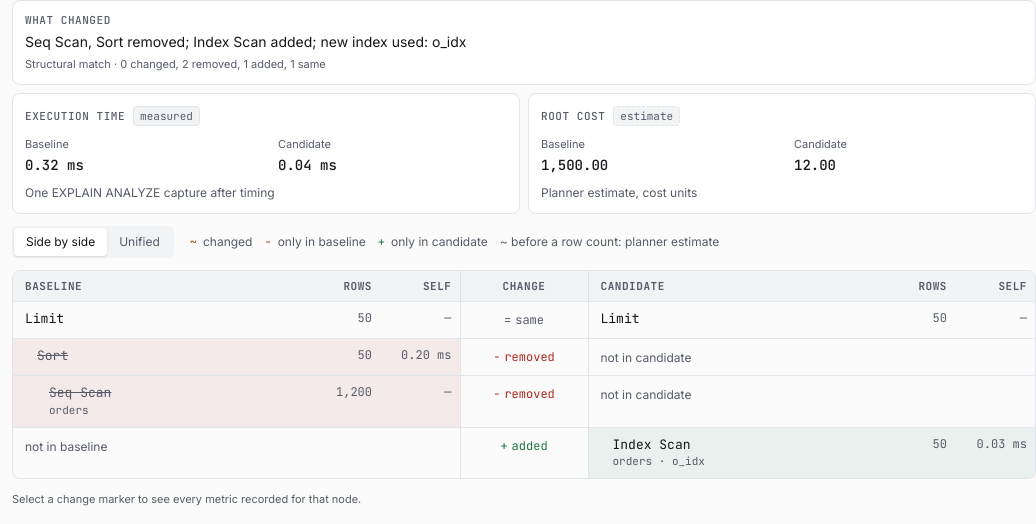
it: unified reads baseline → candidate in one list
Click the button "Unified": (139,242) 107,228 -> 172,256
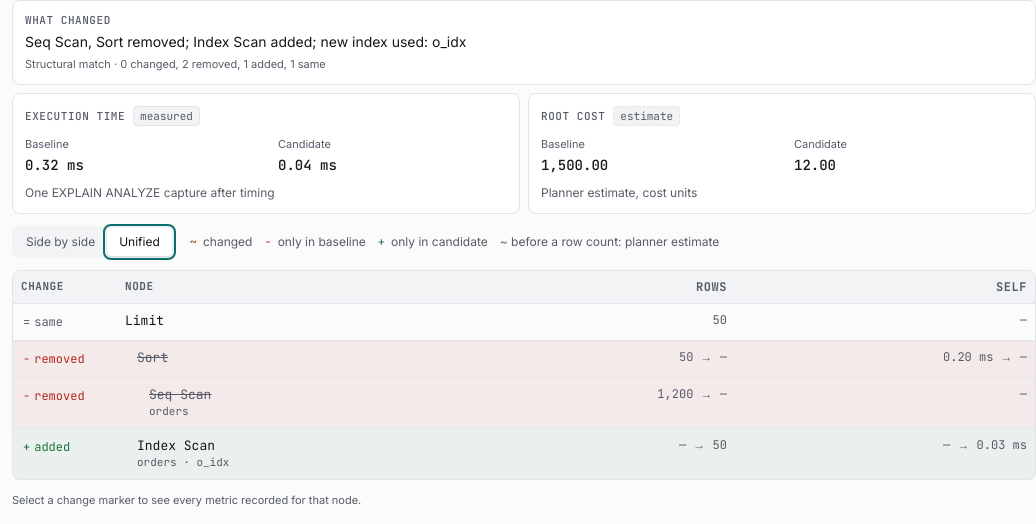
Expected: the text "1,200 → —" is shown, 657,386 -> 727,402
Expected: the text "— → 50" is shown, 679,437 -> 727,453
